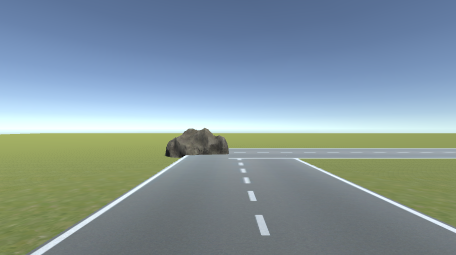rock: (165, 127, 230, 157)
